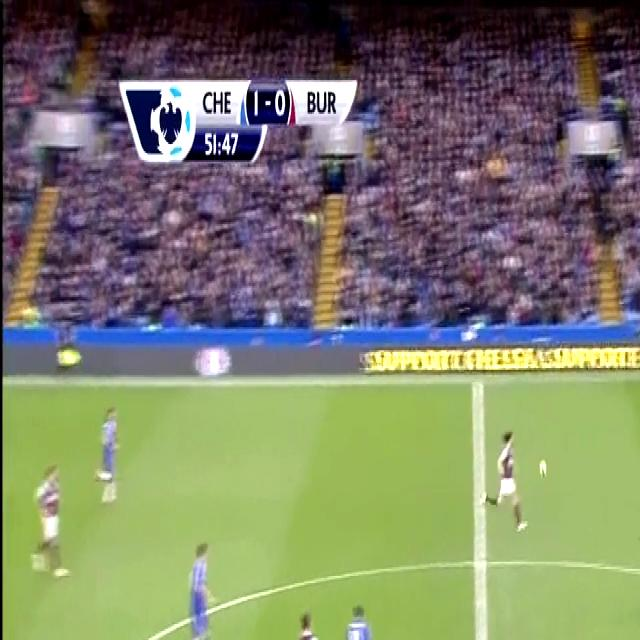ball: (53, 322, 80, 382), (536, 451, 552, 482)
soccer-player: (26, 447, 70, 591), (173, 528, 222, 640), (487, 416, 529, 542), (91, 389, 127, 518), (289, 597, 336, 640), (334, 592, 376, 640), (639, 506, 640, 640)
